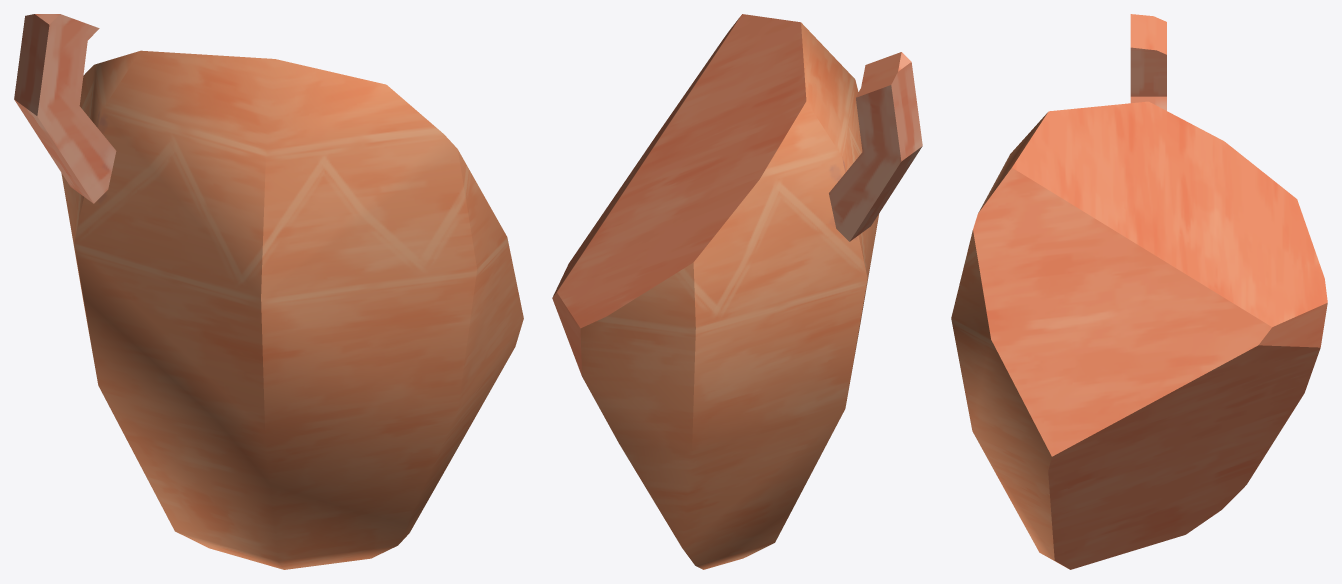
File: pot_tall_s03.fbx
The picture shows the model from 3 angles, left to right: view 1: azimuth 30°, elevation 25°; view 2: azimuth 150°, elevation 25°; view 3: azimuth 270°, elevation 25°; orthographic projection. The views are drawn at different scales.
Visible parts, largest first — view 1: pot_tall_s03; view 2: pot_tall_s03; view 3: pot_tall_s03.
Boxes of the visible parts, <box> form: pot_tall_s03: <box>14,14,523,569</box>; pot_tall_s03: <box>552,14,922,569</box>; pot_tall_s03: <box>951,14,1327,569</box>.
Size of the model in its own units: 2.16 by 2.76 by 2.08.
